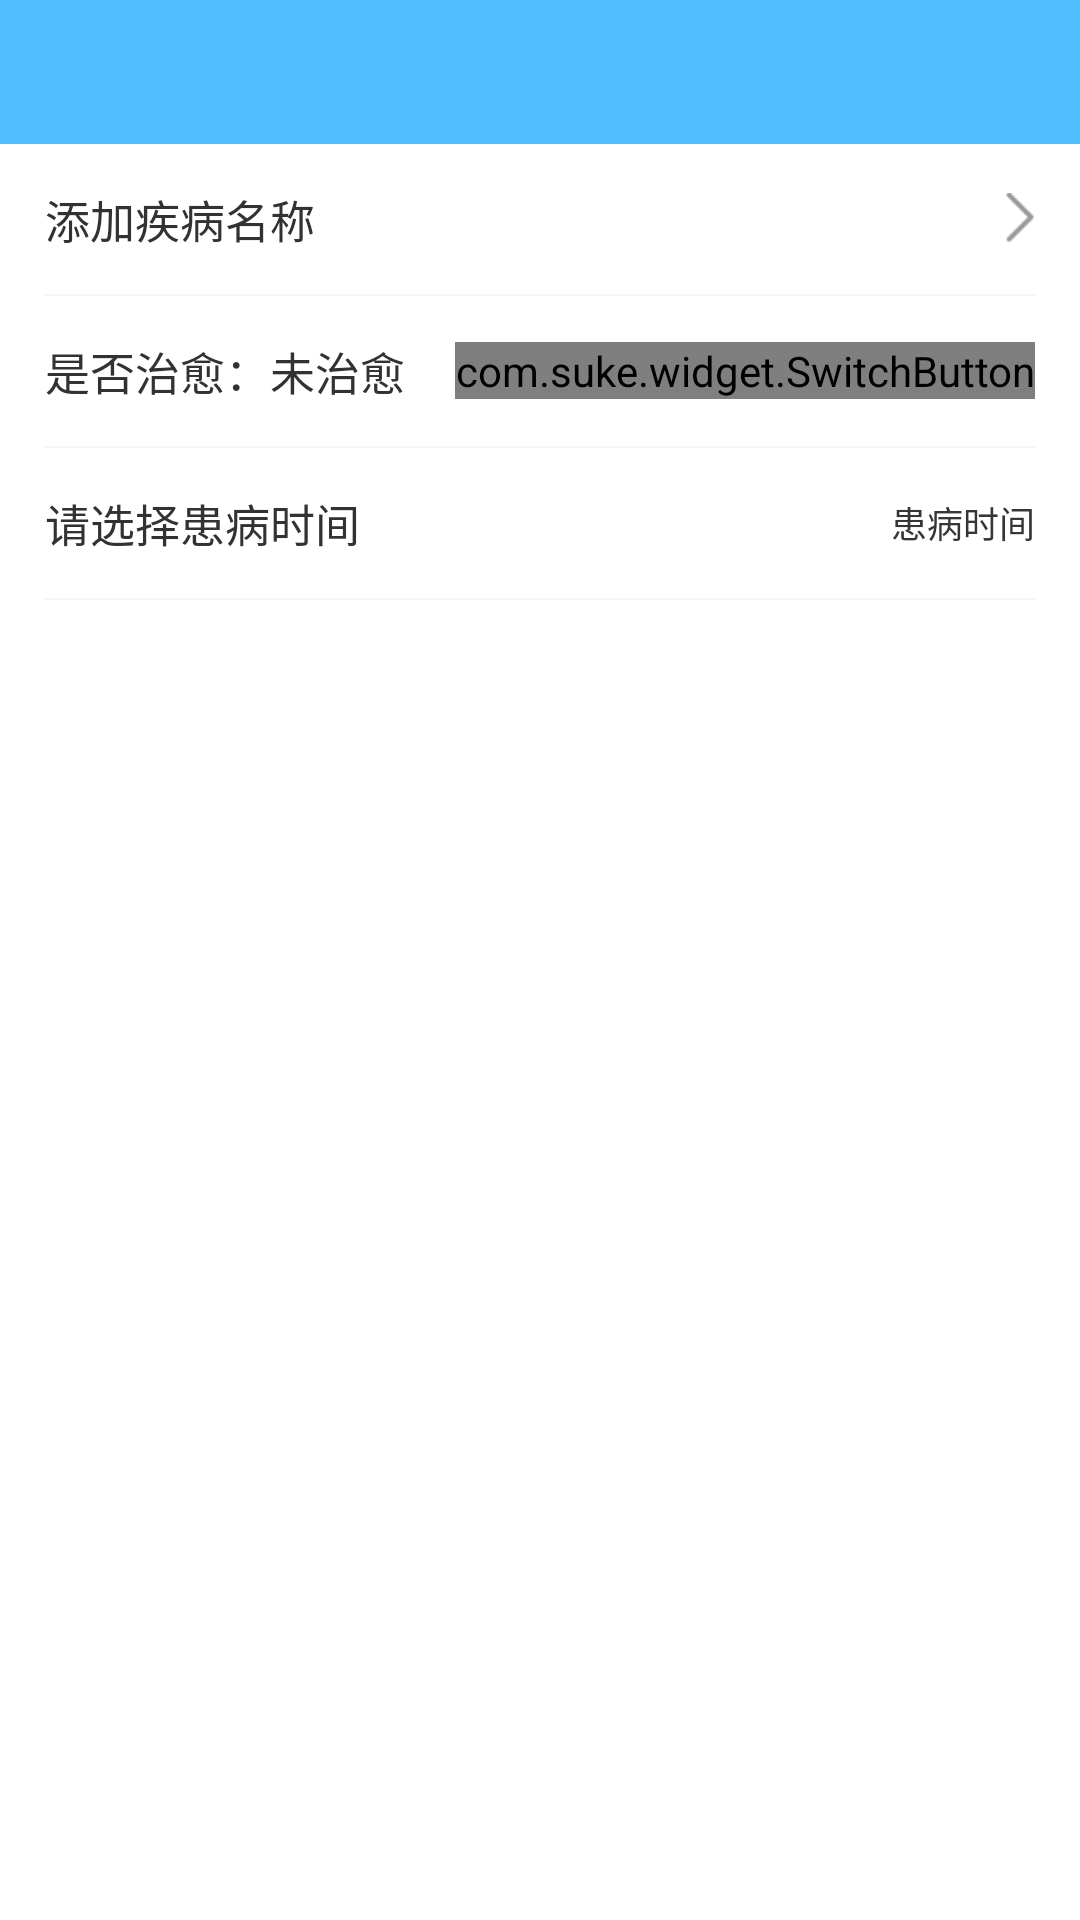

Screen size 1080px×1920px. Icon name, then its box in pixels as (x1, y1, x2, y2):
right: (1006, 193, 1034, 242)
